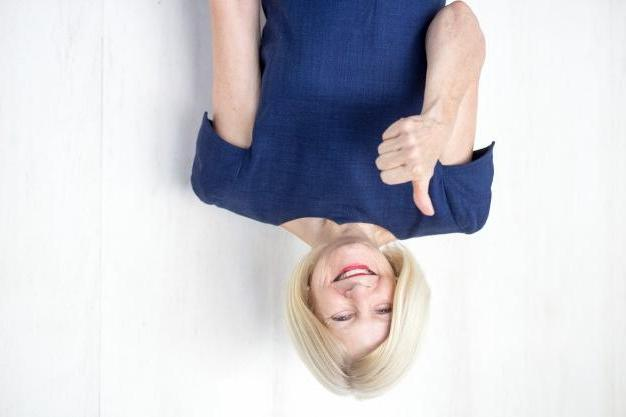thumbsdown: (375, 115, 436, 218)
